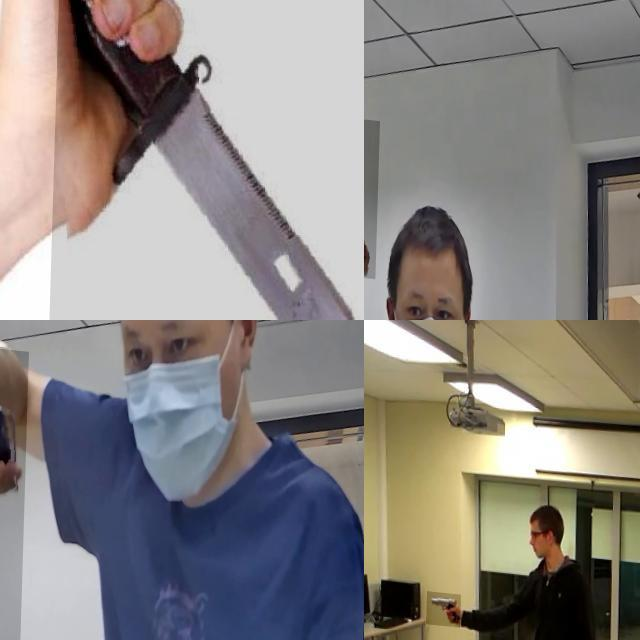-: (50, 0, 364, 320)
gun-knife-thesis - v11 Yolov5 augmented: (0, 337, 50, 640), (364, 109, 395, 272), (428, 589, 464, 625)
